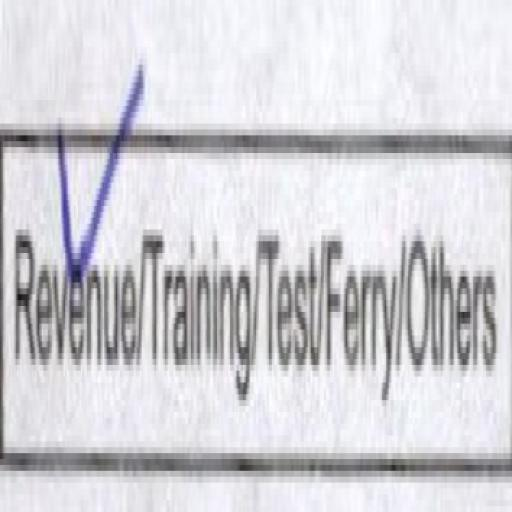check: (0, 0, 138, 491)
